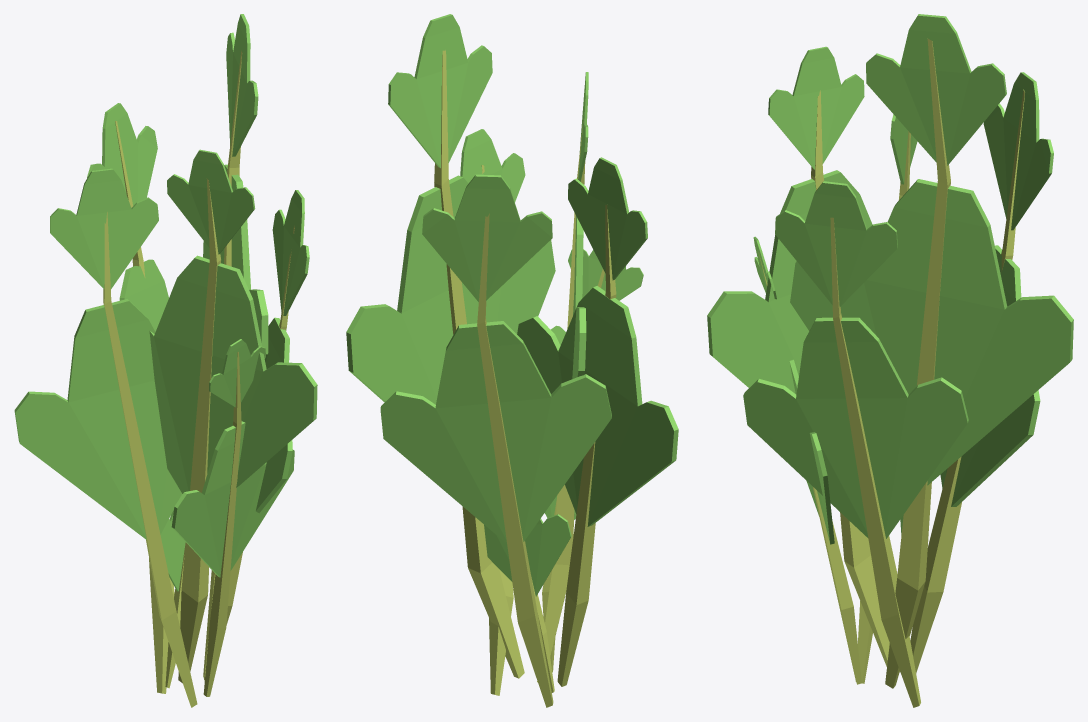
File: Carrot_4.fbx
The picture shows the model from 3 angles, left to right: view 1: azimuth 30°, elevation 25°; view 2: azimuth 150°, elevation 25°; view 3: azimuth 270°, elevation 25°; orthographic projection. The views are drawn at different scales.
Parts seen in each view (by area): view 1: 4_Carrot; view 2: 4_Carrot; view 3: 4_Carrot.
Boxes of the visible parts, x1=… form: 4_Carrot: x1=14, y1=14, x2=317, y2=707; 4_Carrot: x1=346, y1=14, x2=678, y2=707; 4_Carrot: x1=707, y1=14, x2=1073, y2=707.
Bounding box in the file's own units: 12.96 × 31.13 × 14.44.
